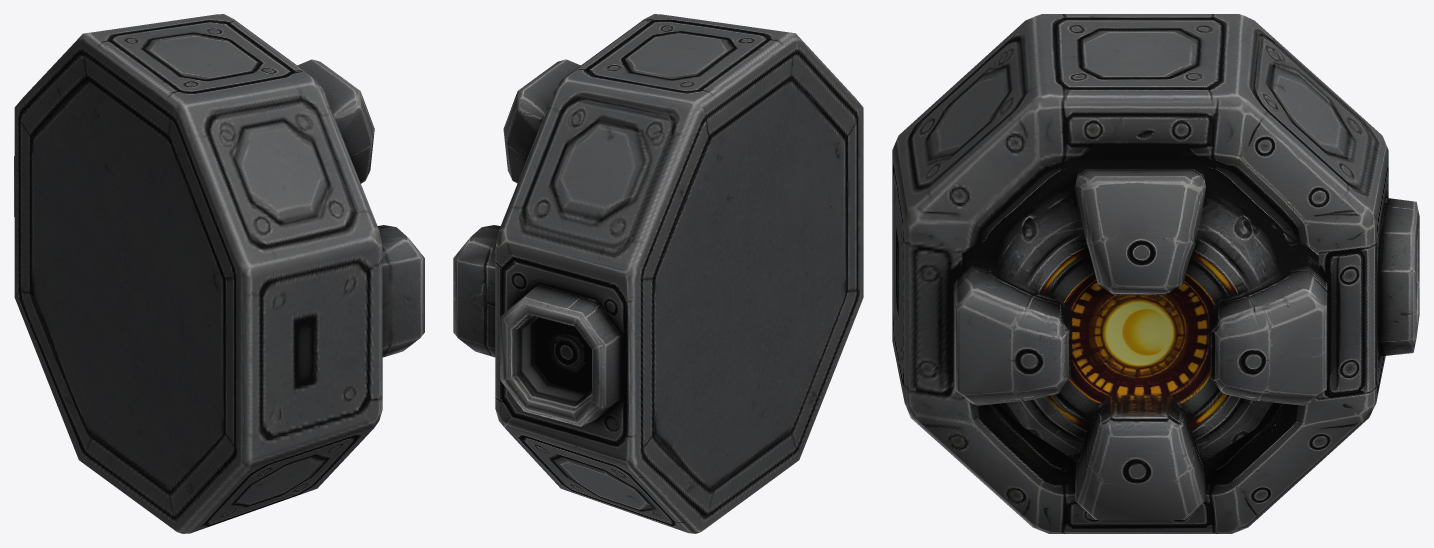
Rendered from cold-iron-v2-electrical-terminal-b.glb.
3 renders of one model, left to right at view 1: azimuth 30°, elevation 25°; view 2: azimuth 150°, elevation 25°; view 3: azimuth 270°, elevation 25°, orthographic. The views are drawn at different scales.
Parts seen in each view (by area): view 1: tripo_node_c0e76094-b1ed-4ae5-a76d-8eca092672c8; view 2: tripo_node_c0e76094-b1ed-4ae5-a76d-8eca092672c8; view 3: tripo_node_c0e76094-b1ed-4ae5-a76d-8eca092672c8.
Boxes of the visible parts, x1,y1,x2,y2 form: tripo_node_c0e76094-b1ed-4ae5-a76d-8eca092672c8: [14, 14, 424, 533]; tripo_node_c0e76094-b1ed-4ae5-a76d-8eca092672c8: [453, 14, 863, 533]; tripo_node_c0e76094-b1ed-4ae5-a76d-8eca092672c8: [892, 14, 1419, 533].
Size of the model in its own units: 0.5371 by 0.9668 by 0.998.
1 material, 1 textured.
